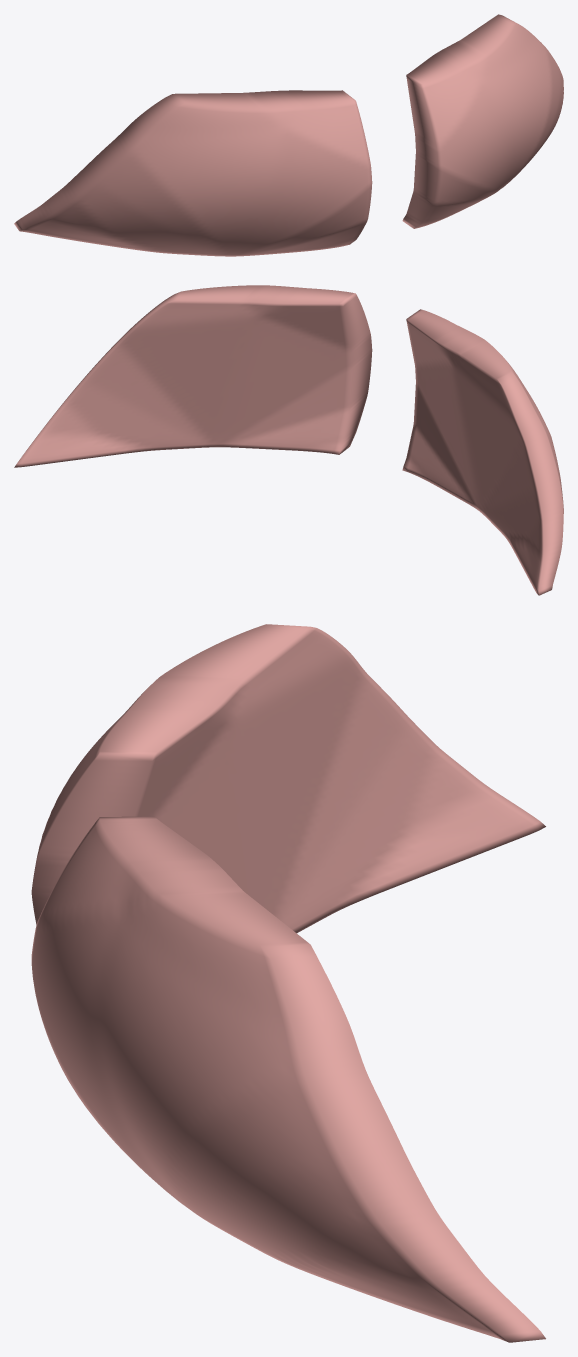
Rendered from mentalis.glb.
3 renders of one model, top to bottom at view 1: azimuth 30°, elevation 25°; view 2: azimuth 150°, elevation 25°; view 3: azimuth 270°, elevation 25°, orthographic. The views are drawn at different scales.
Parts seen in each view (by area): view 1: mentalis_R, mentalis_L; view 2: mentalis_L, mentalis_R; view 3: mentalis_L, mentalis_R.
Part boxes in pixels (box(x1,y1,x2,y2)): mentalis_R: box(14, 90, 372, 256); mentalis_L: box(402, 14, 563, 228); mentalis_L: box(14, 285, 372, 467); mentalis_R: box(402, 309, 563, 595); mentalis_L: box(31, 816, 545, 1342); mentalis_R: box(31, 624, 545, 933).
Size of the model in its own units: 0.03 by 0.008 by 0.0126.
